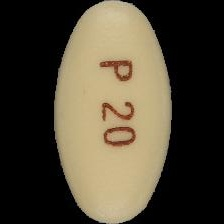16590-635: (0, 0, 224, 224)
